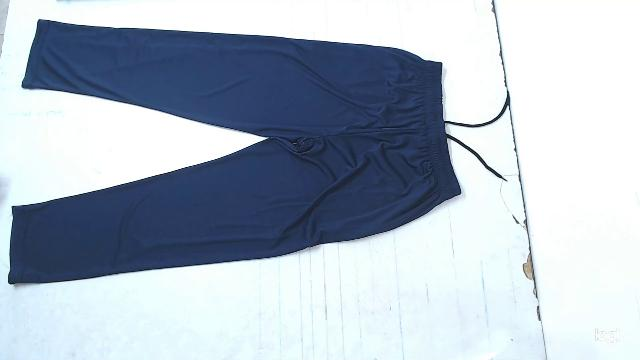new-garment: (8, 20, 460, 284)
